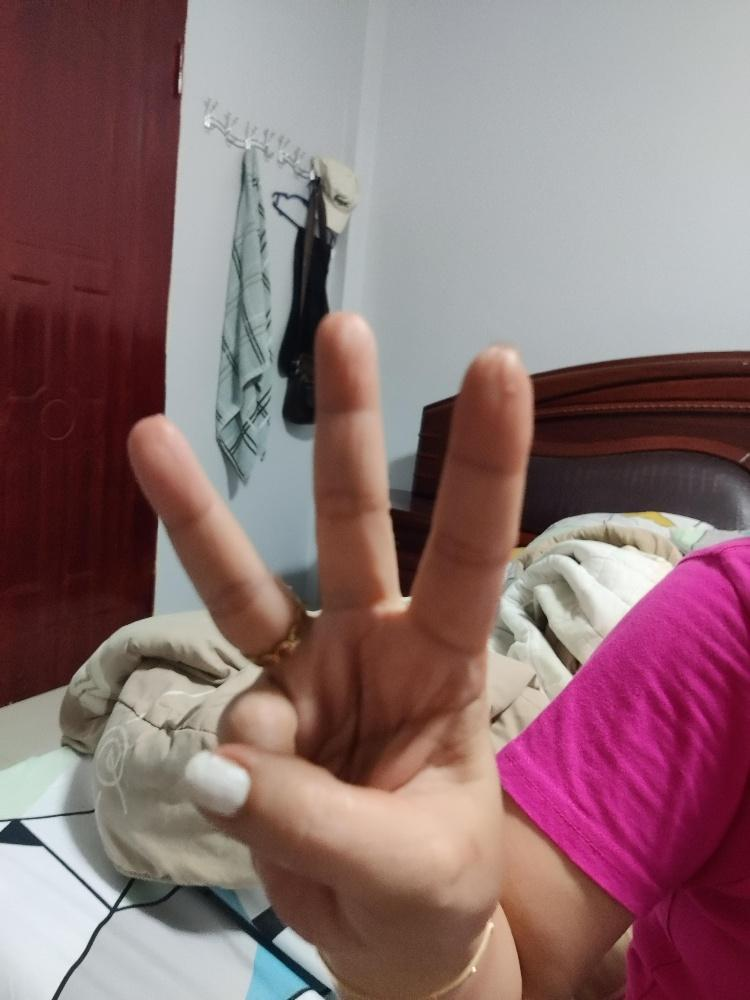w: (124, 308, 535, 948)
